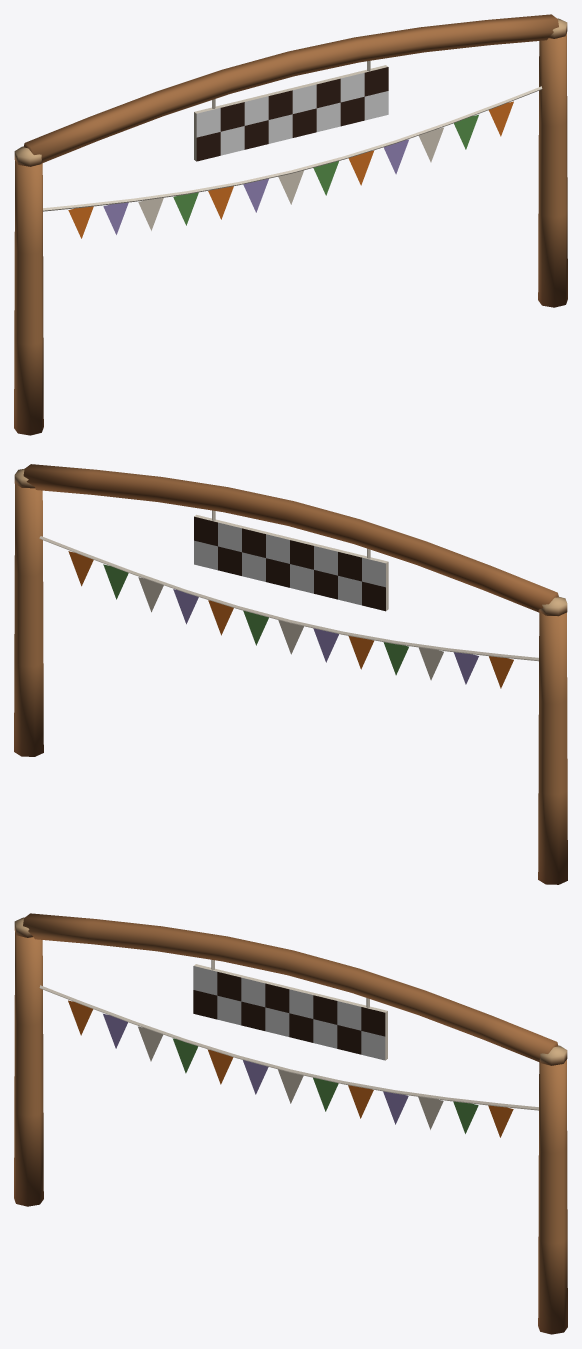
File: finish-arch.glb
3 views of the same model, one above another, from view 1: azimuth 30°, elevation 25°; view 2: azimuth 150°, elevation 25°; view 3: azimuth 330°, elevation 25° (orthographic).
Visible parts, largest first — view 1: finish_arch; view 2: finish_arch; view 3: finish_arch.
Boxes of the visible parts, <box> form: finish_arch: <box>14,14,567,435</box>; finish_arch: <box>14,464,567,884</box>; finish_arch: <box>14,913,567,1334</box>.
Size of the model in its own units: 7.45 by 4.03 by 0.3426.
